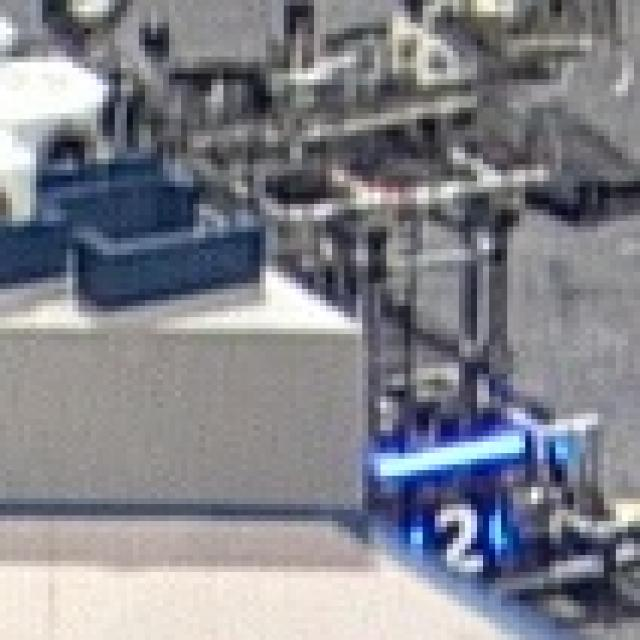B2: (405, 498, 501, 578)
